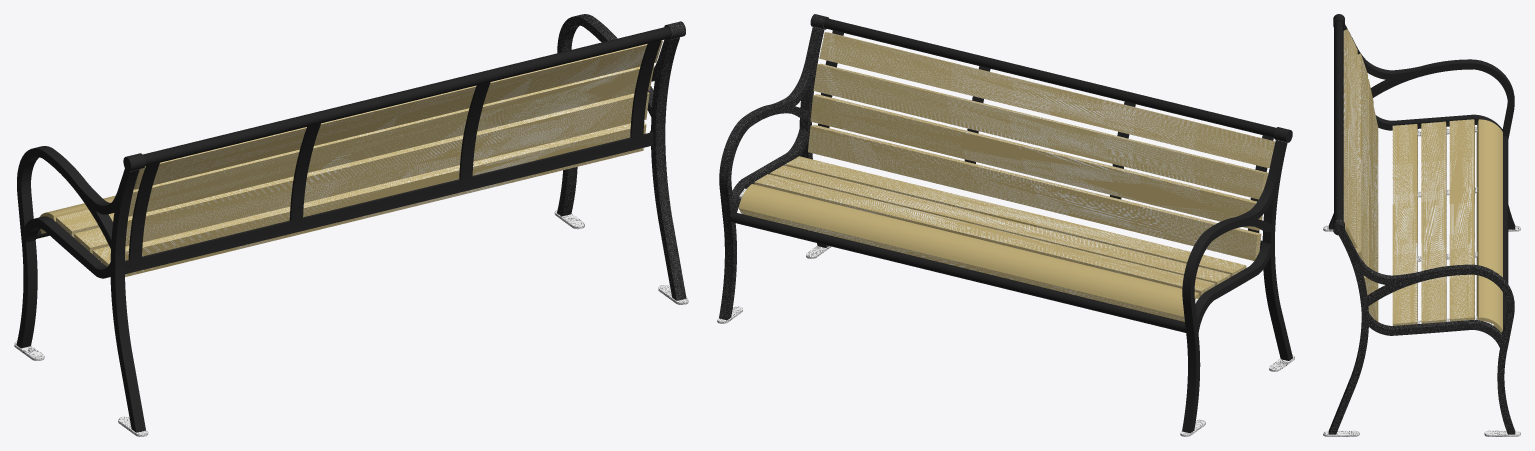
3 views of the same model, side by side, from view 1: azimuth 30°, elevation 25°; view 2: azimuth 150°, elevation 25°; view 3: azimuth 270°, elevation 25° (orthographic). The views are drawn at different scales.
Visible parts, largest first — view 1: mesh3_mesh3-geometry, mesh13_mesh13-geometry, mesh2_mesh2-geometry, mesh32_mesh32-geometry, mesh1_mesh1-geometry, mesh4_mesh4-geometry, mesh23_mesh23-geometry, mesh36_mesh36-geometry, mesh7_mesh7-geometry; view 2: mesh8_mesh8-geometry, mesh2_mesh2-geometry, mesh1_mesh1-geometry, mesh4_mesh4-geometry, mesh3_mesh3-geometry, mesh32_mesh32-geometry, mesh7_mesh7-geometry, mesh36_mesh36-geometry, mesh5_mesh5-geometry, mesh6_mesh6-geometry, mesh25_mesh25-geometry, mesh23_mesh23-geometry (+1 smaller); view 3: mesh36_mesh36-geometry, mesh8_mesh8-geometry, mesh7_mesh7-geometry, mesh6_mesh6-geometry, mesh5_mesh5-geometry, mesh32_mesh32-geometry, mesh1_mesh1-geometry, mesh2_mesh2-geometry, mesh23_mesh23-geometry, mesh3_mesh3-geometry, mesh4_mesh4-geometry, mesh25_mesh25-geometry (+2 smaller).
Part boxes in pixels (left/top/right/bottom): mesh3_mesh3-geometry: left=125, top=92, right=649, bottom=246; mesh13_mesh13-geometry: left=125, top=40, right=661, bottom=274; mesh2_mesh2-geometry: left=128, top=65, right=654, bottom=216; mesh32_mesh32-geometry: left=16, top=146, right=145, bottom=432; mesh1_mesh1-geometry: left=134, top=40, right=662, bottom=189; mesh4_mesh4-geometry: left=125, top=122, right=646, bottom=276; mesh23_mesh23-geometry: left=143, top=26, right=670, bottom=166; mesh36_mesh36-geometry: left=557, top=14, right=686, bottom=300; mesh7_mesh7-geometry: left=56, top=209, right=114, bottom=237; mesh8_mesh8-geometry: left=738, top=184, right=1199, bottom=321; mesh2_mesh2-geometry: left=813, top=63, right=1267, bottom=199; mesh1_mesh1-geometry: left=819, top=32, right=1275, bottom=167; mesh4_mesh4-geometry: left=808, top=124, right=1261, bottom=260; mesh3_mesh3-geometry: left=810, top=94, right=1262, bottom=230; mesh32_mesh32-geometry: left=1182, top=140, right=1292, bottom=433; mesh7_mesh7-geometry: left=754, top=174, right=1214, bottom=296; mesh36_mesh36-geometry: left=719, top=27, right=828, bottom=320; mesh5_mesh5-geometry: left=785, top=156, right=1246, bottom=276; mesh6_mesh6-geometry: left=770, top=165, right=1230, bottom=285; mesh25_mesh25-geometry: left=731, top=212, right=1185, bottom=332; mesh23_mesh23-geometry: left=824, top=18, right=1275, bottom=137; mesh36_mesh36-geometry: left=1328, top=230, right=1515, bottom=434; mesh8_mesh8-geometry: left=1476, top=119, right=1502, bottom=332; mesh7_mesh7-geometry: left=1449, top=119, right=1474, bottom=321; mesh6_mesh6-geometry: left=1421, top=121, right=1446, bottom=323; mesh5_mesh5-geometry: left=1392, top=124, right=1417, bottom=325; mesh32_mesh32-geometry: left=1328, top=24, right=1515, bottom=229; mesh1_mesh1-geometry: left=1343, top=29, right=1357, bottom=248; mesh2_mesh2-geometry: left=1355, top=53, right=1367, bottom=266; mesh23_mesh23-geometry: left=1334, top=20, right=1343, bottom=221; mesh3_mesh3-geometry: left=1363, top=79, right=1373, bottom=295; mesh4_mesh4-geometry: left=1368, top=107, right=1378, bottom=321; mesh25_mesh25-geometry: left=1501, top=136, right=1508, bottom=333.
Bounding box in the file's own units: 0.8515 × 0.4009 × 0.3379.
